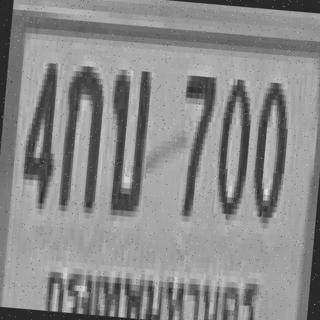A01: (56, 59, 105, 208)
A26: (102, 63, 150, 212)
N00: (248, 76, 290, 218), (211, 72, 252, 215)
N04: (19, 56, 61, 204)
N07: (174, 69, 215, 212)
